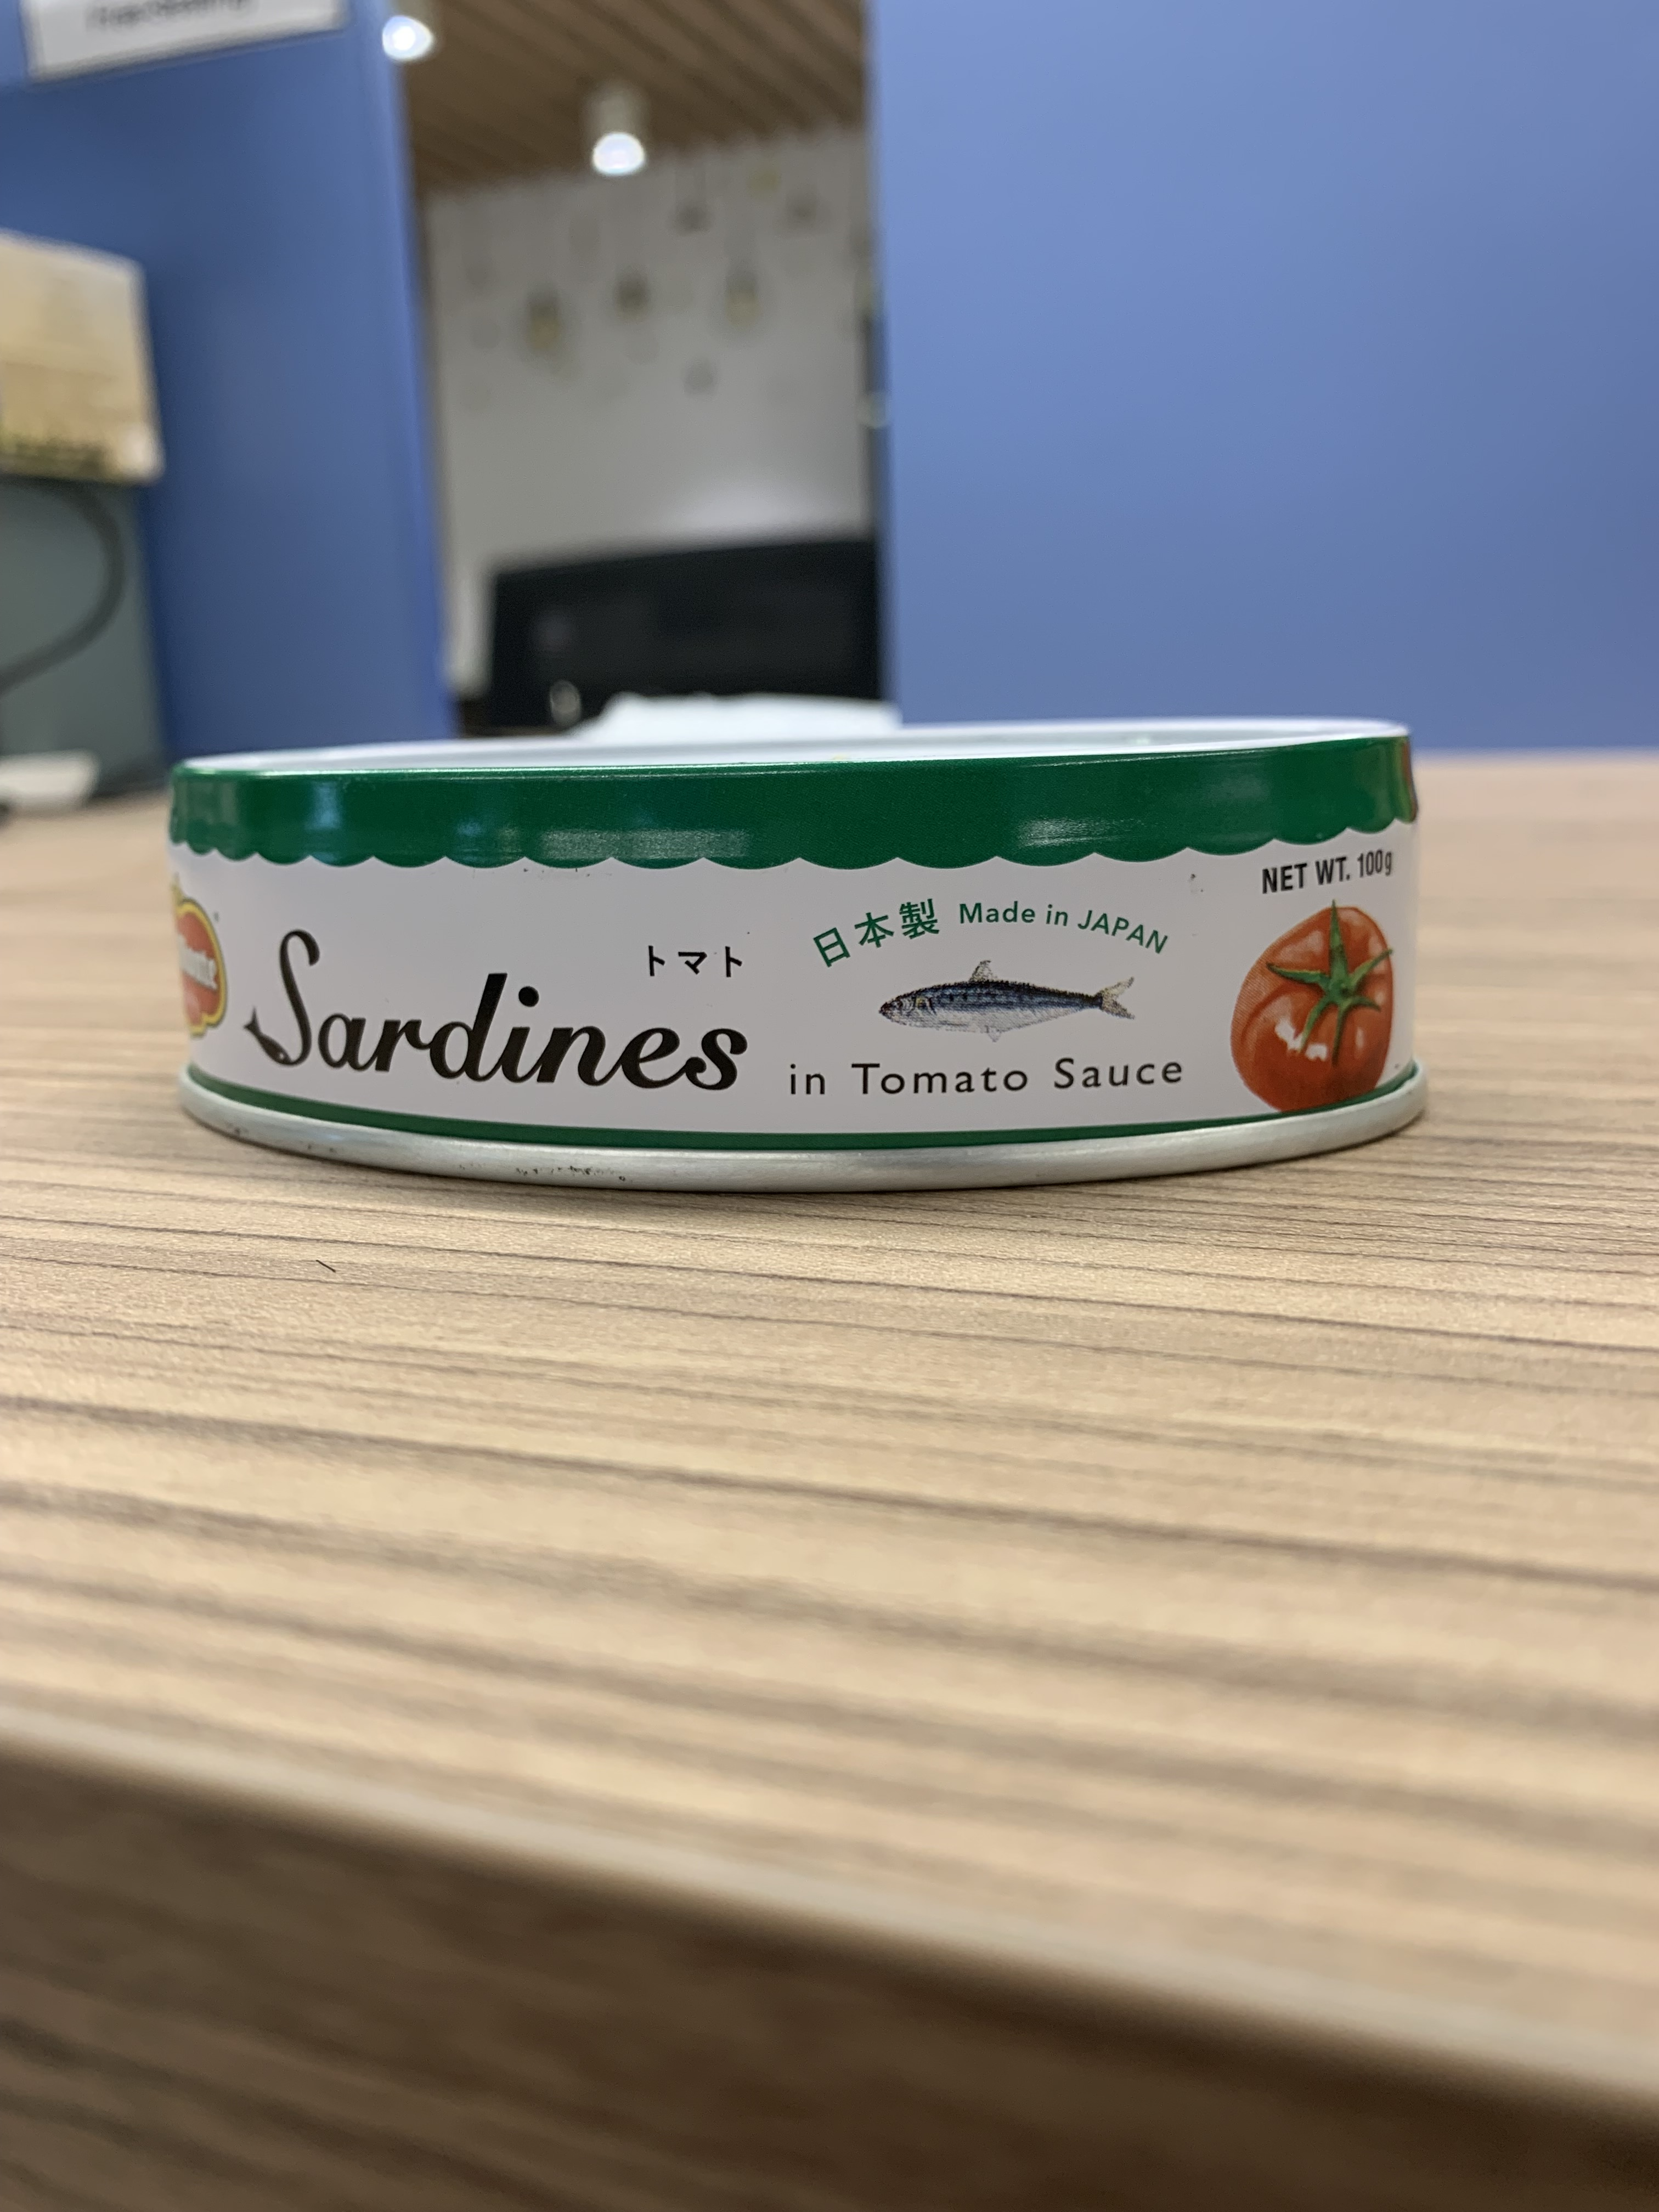sardines_100g-199g: (179, 752, 1424, 1123)
